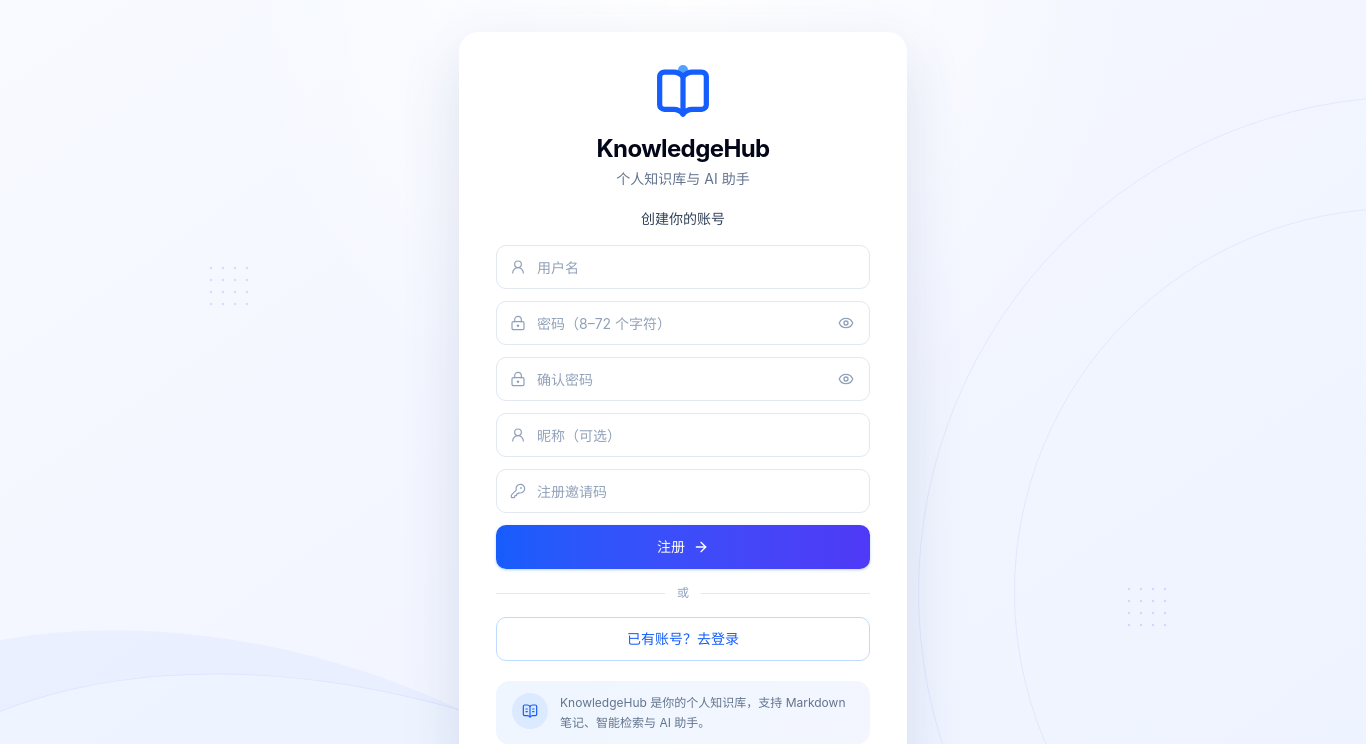
registration flow › validates matching passwords before sending registration data
In the field labelled "用户名": (683, 267) [496,245,870,289], type "new_user"
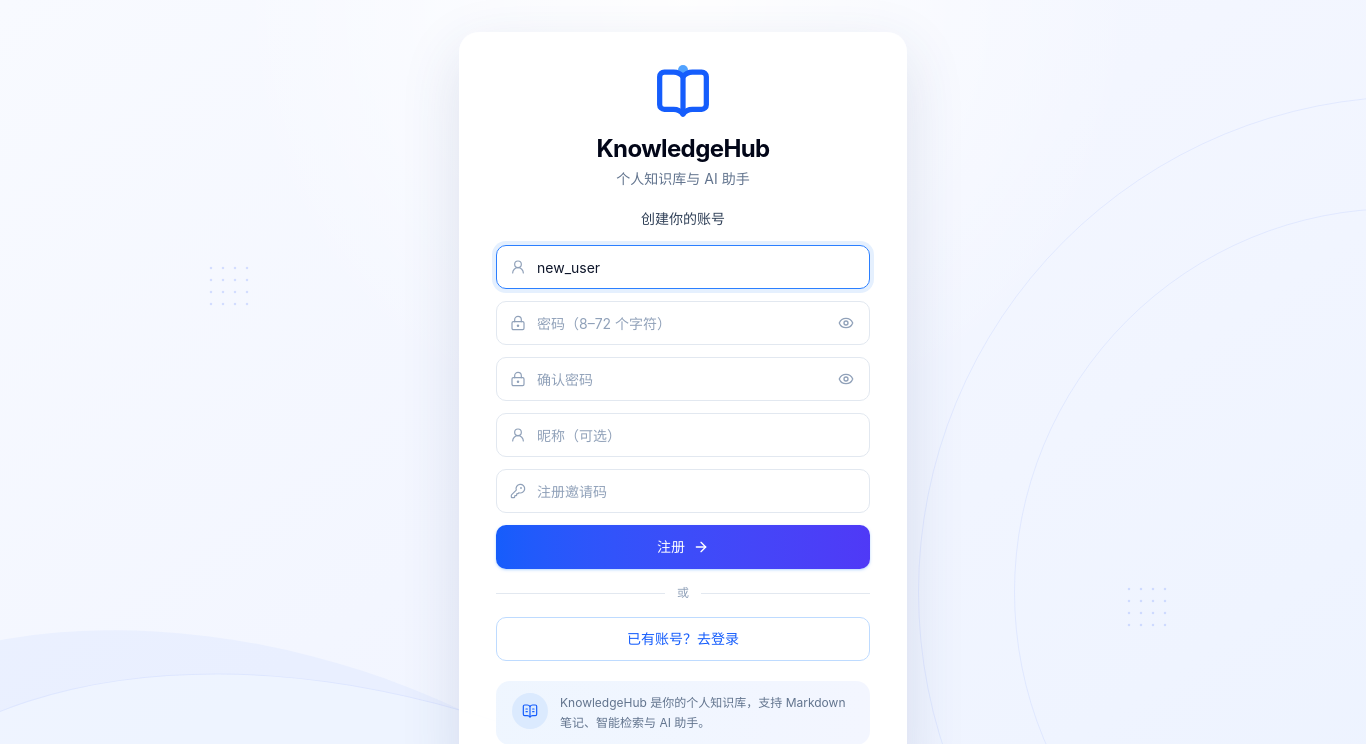
In the password field labelled "密码": (683, 323) [496,301,870,345], type "password123"
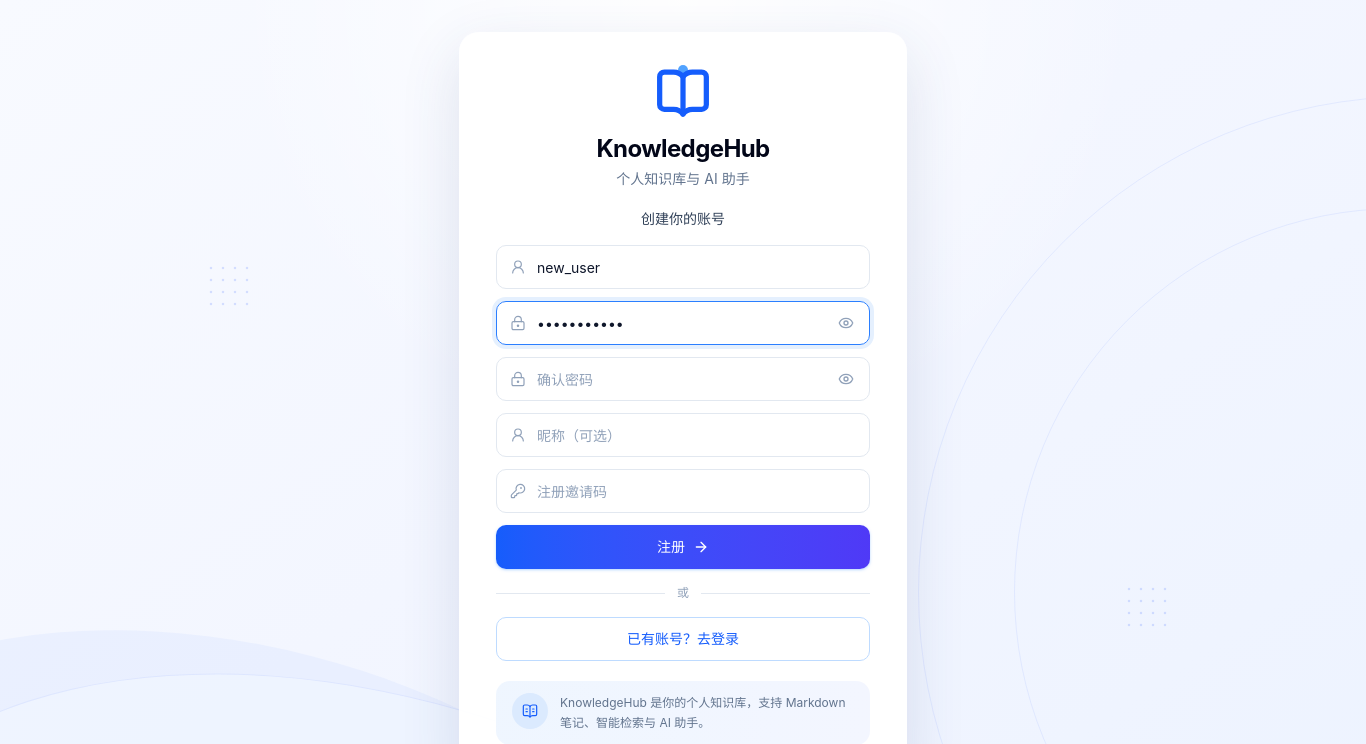
In the password field labelled "确认密码": (683, 379) [496,357,870,401], type "different123"
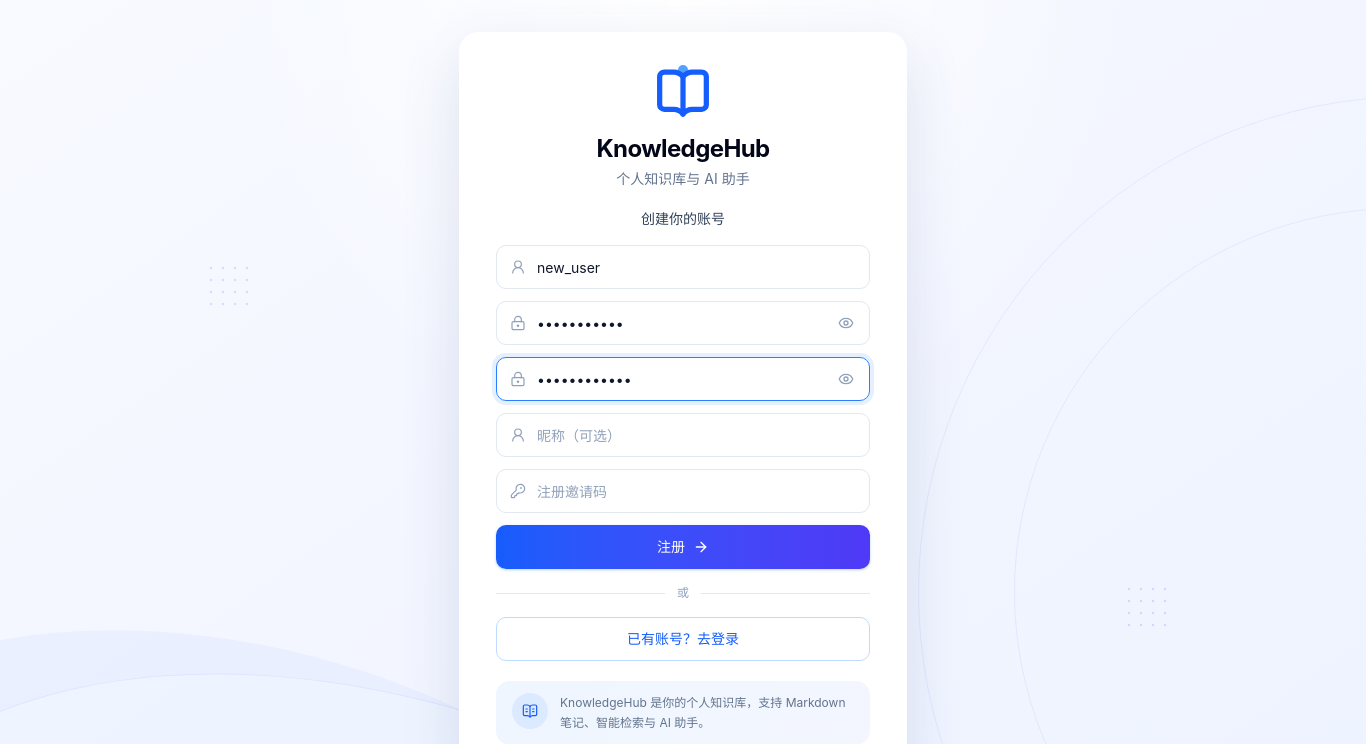
In the field labelled "邀请码": (683, 491) [496,469,870,513], type "invite-code"
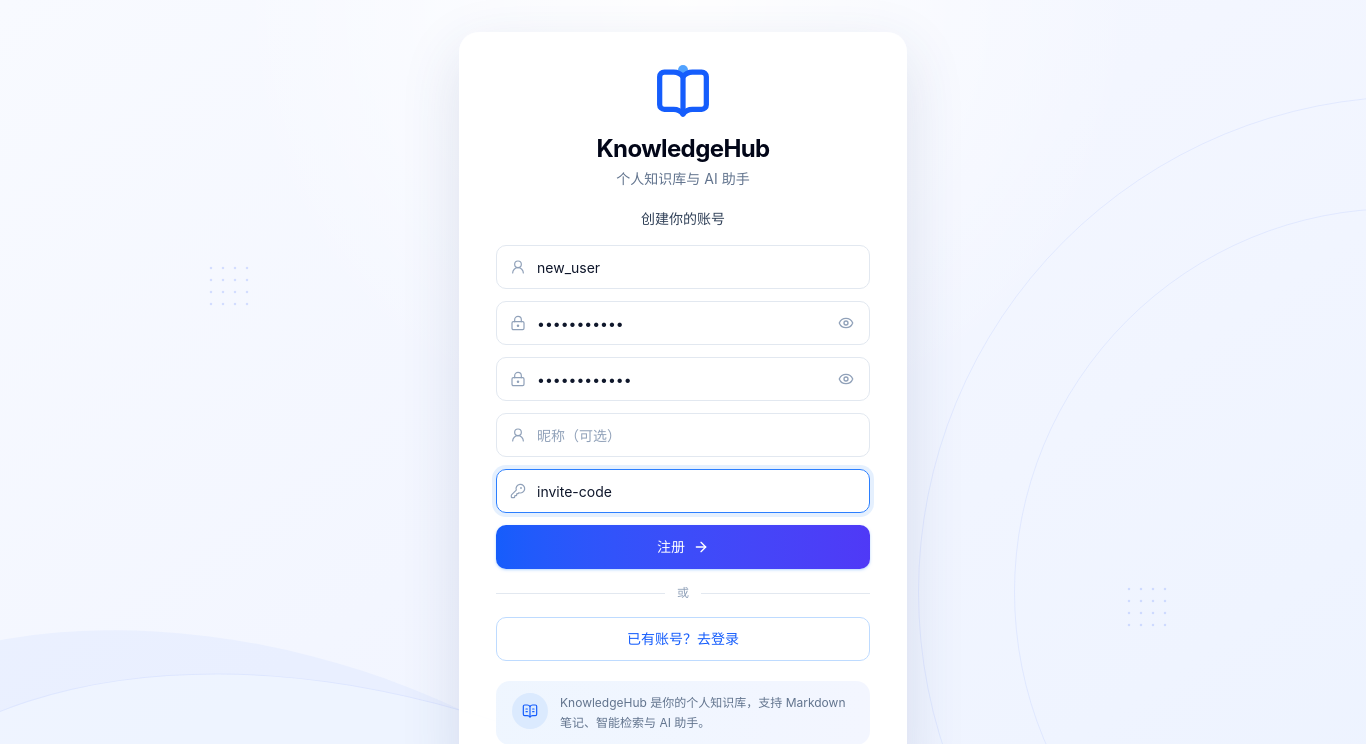
Click the button "注册": (683, 547) [496,525,870,569]
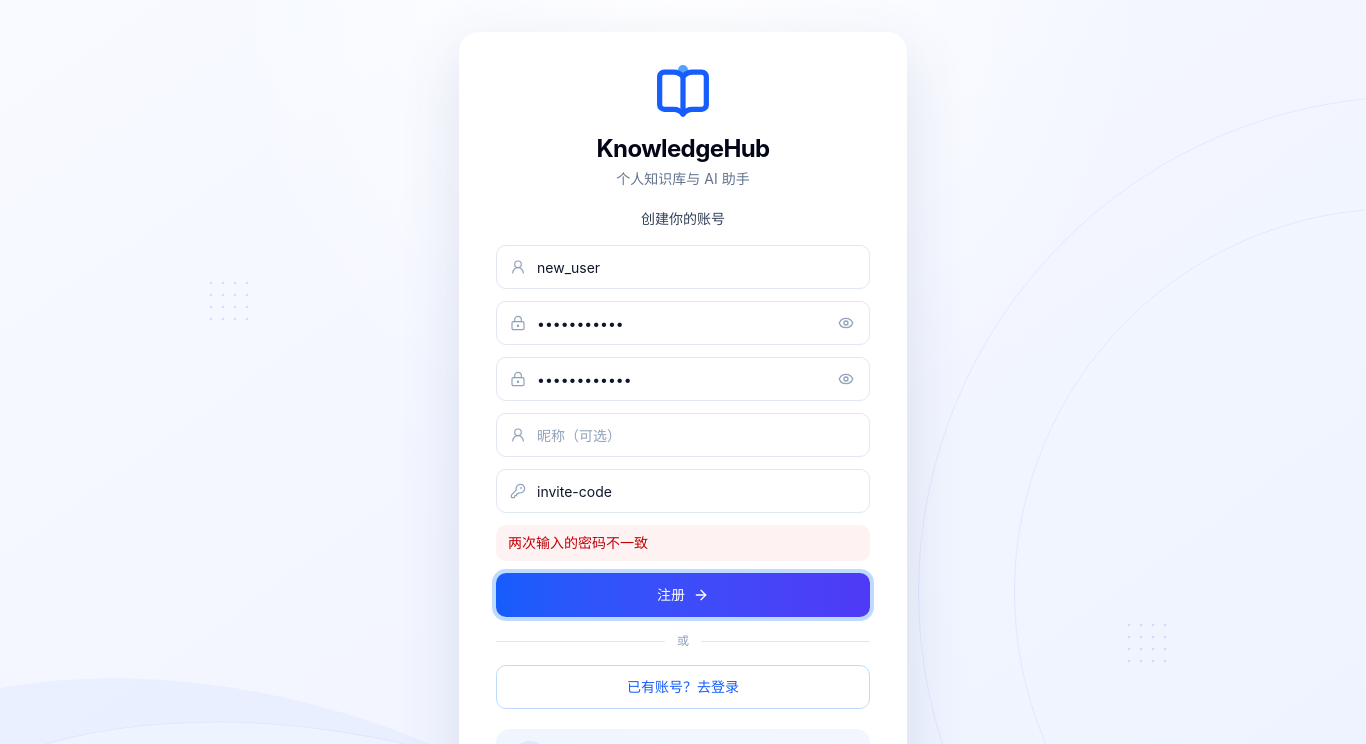
Expected: the message reads "两次输入的密码不一致", [508,534,648,551]
